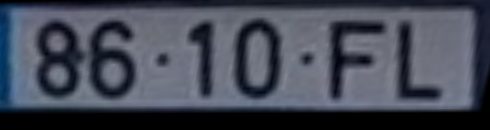0: (232, 16, 284, 104)
1: (184, 18, 219, 103)
6: (87, 17, 139, 104)
8: (33, 20, 83, 101)
F: (325, 19, 389, 105)
L: (391, 18, 447, 105)
